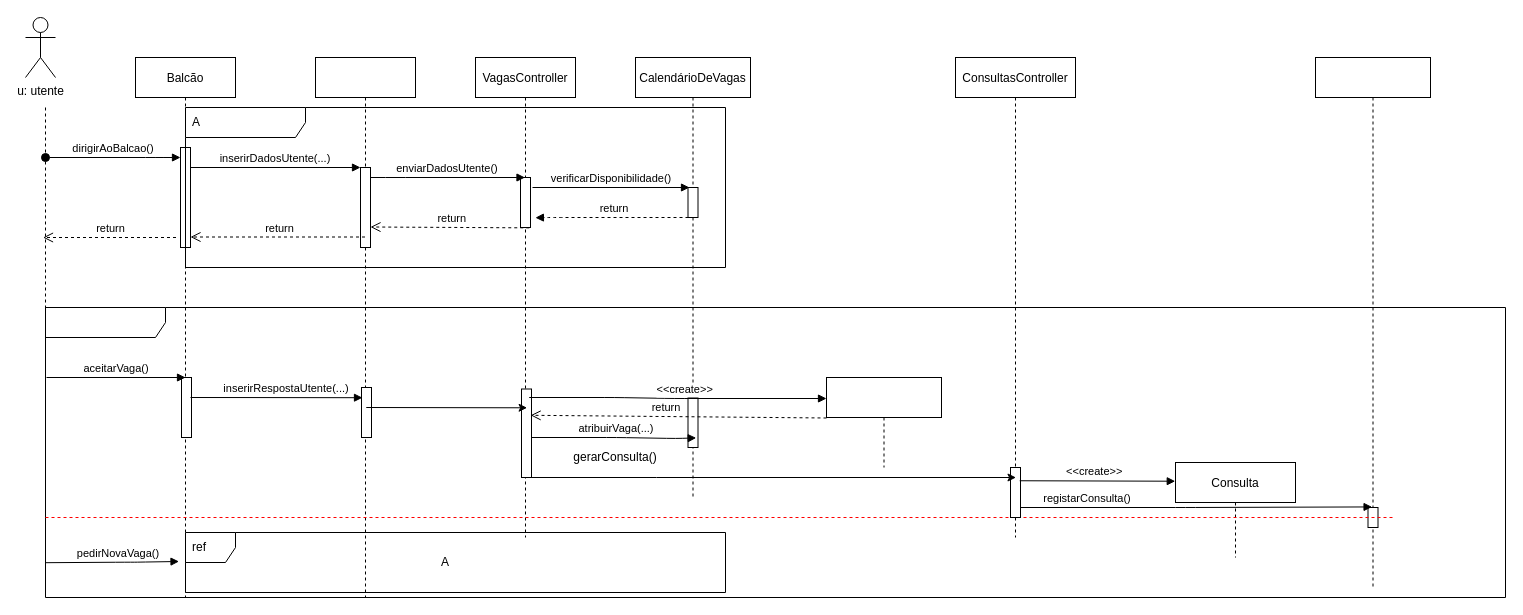
The diagram is 1523 pixels wide and 615 high, and some of its shapes have lost their labels. The box of each missing label's shape, as (x1, y1, x2, y2) in pixels:
alt: (44, 306, 1506, 598)
Formulário: (314, 56, 416, 598)
Histórico: (1314, 56, 1430, 588)
Vaga: (826, 376, 942, 468)
